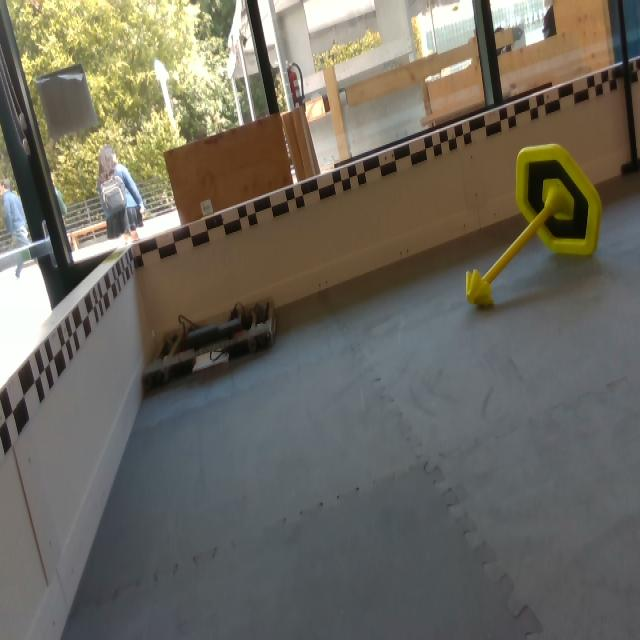Mobile-Goal: (466, 143, 603, 309)
Yellow-Stake-Head: (465, 270, 495, 310)
